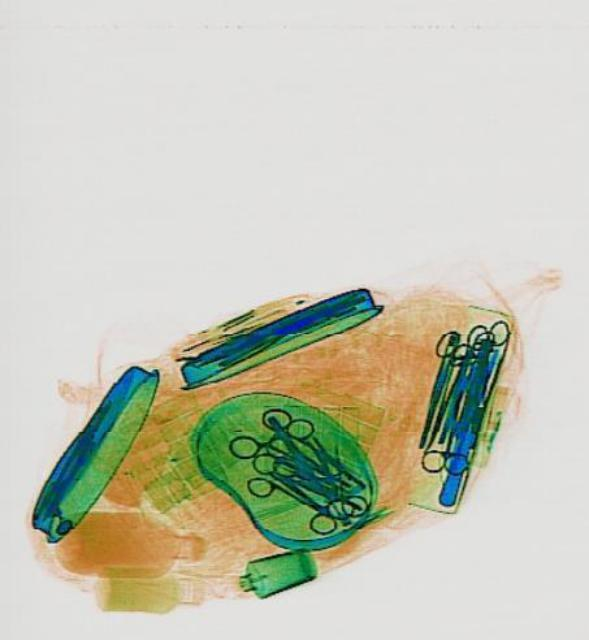Scissors: (237, 448, 332, 526), (276, 468, 355, 542), (417, 388, 479, 477), (444, 327, 506, 398), (460, 317, 504, 387)
